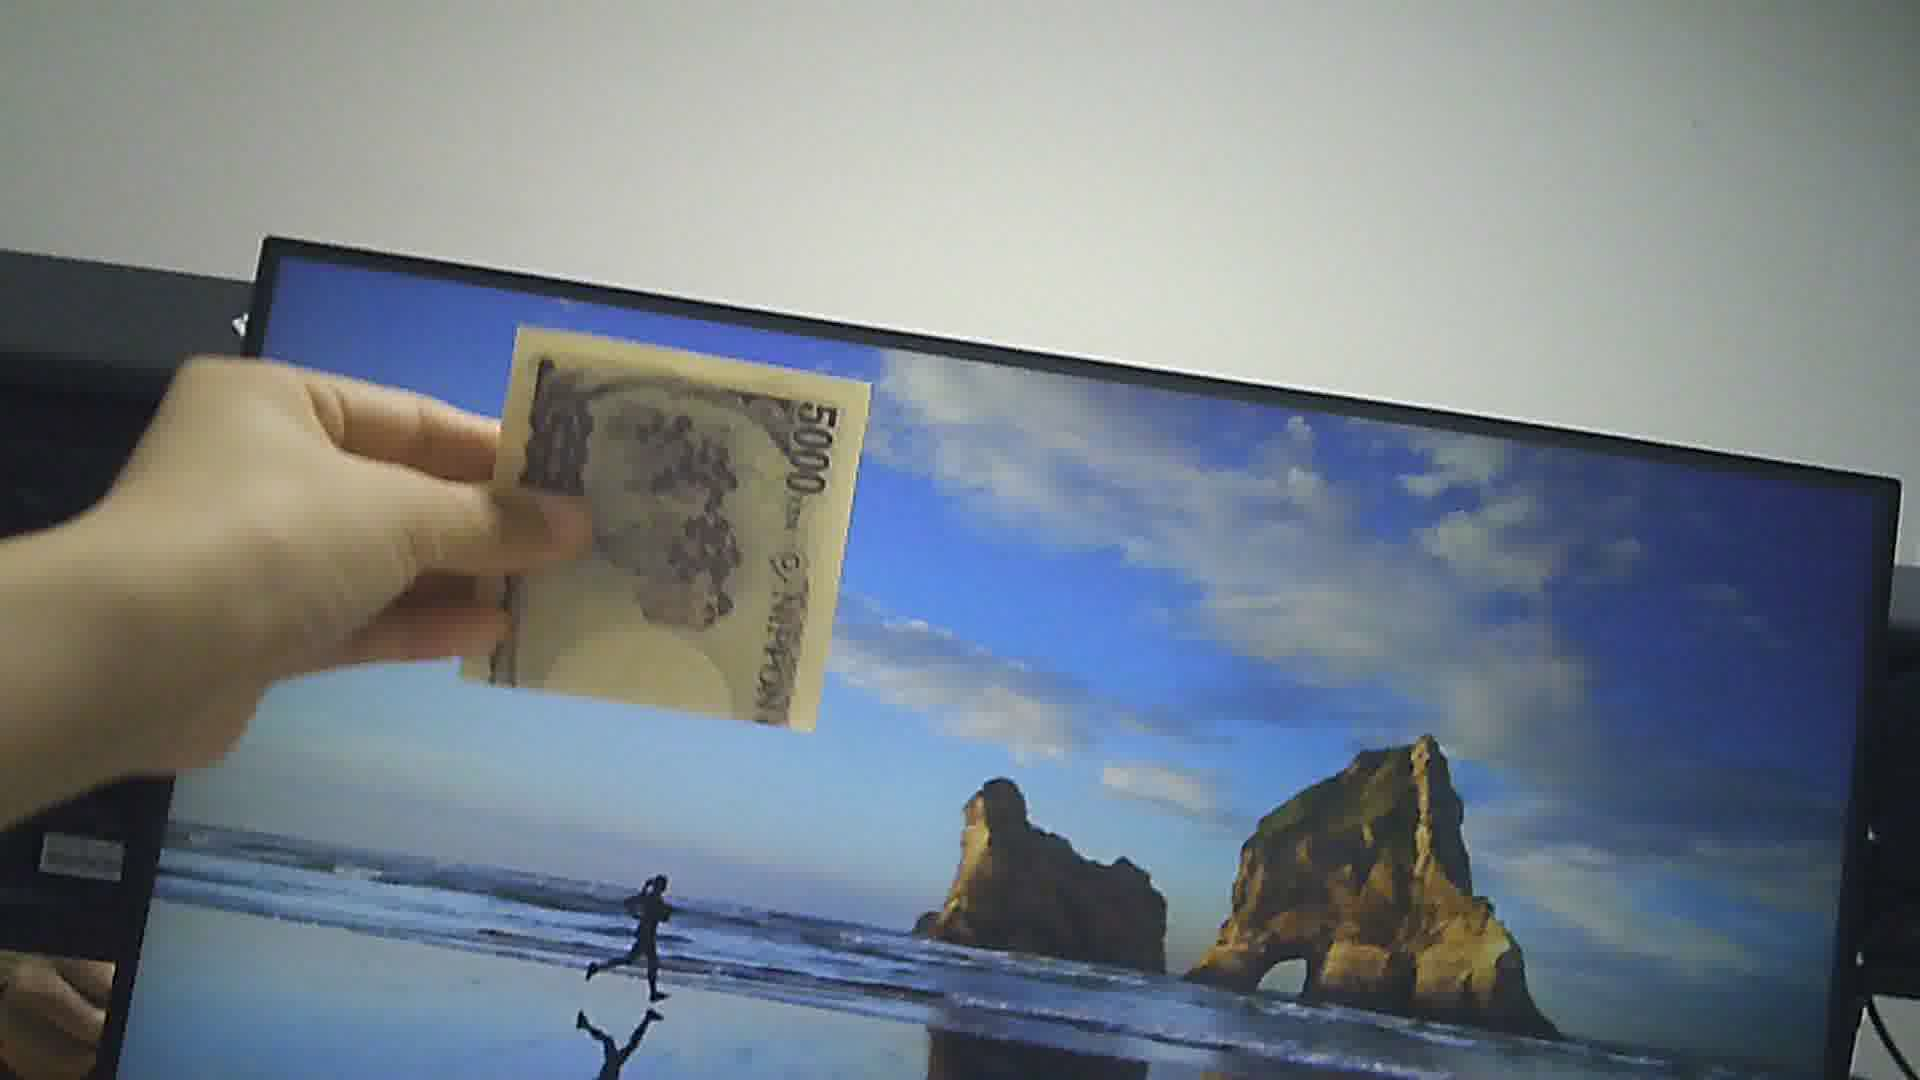5,000 Yen: (460, 310, 878, 756)
